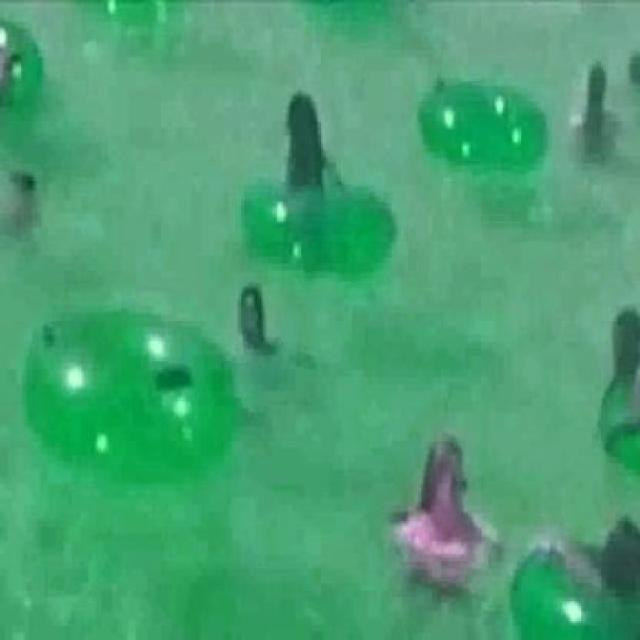drowning: (393, 431, 492, 595), (232, 284, 308, 385), (568, 62, 623, 169), (0, 161, 38, 252)
